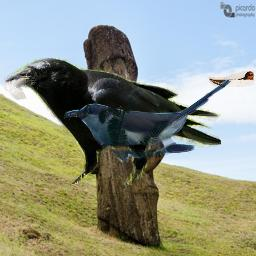Crow: (1, 58, 221, 185)
Cuckoo: (64, 77, 236, 163)
Swallow: (209, 71, 254, 87)
